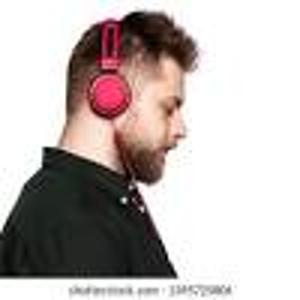Headphones: (83, 16, 173, 126)
